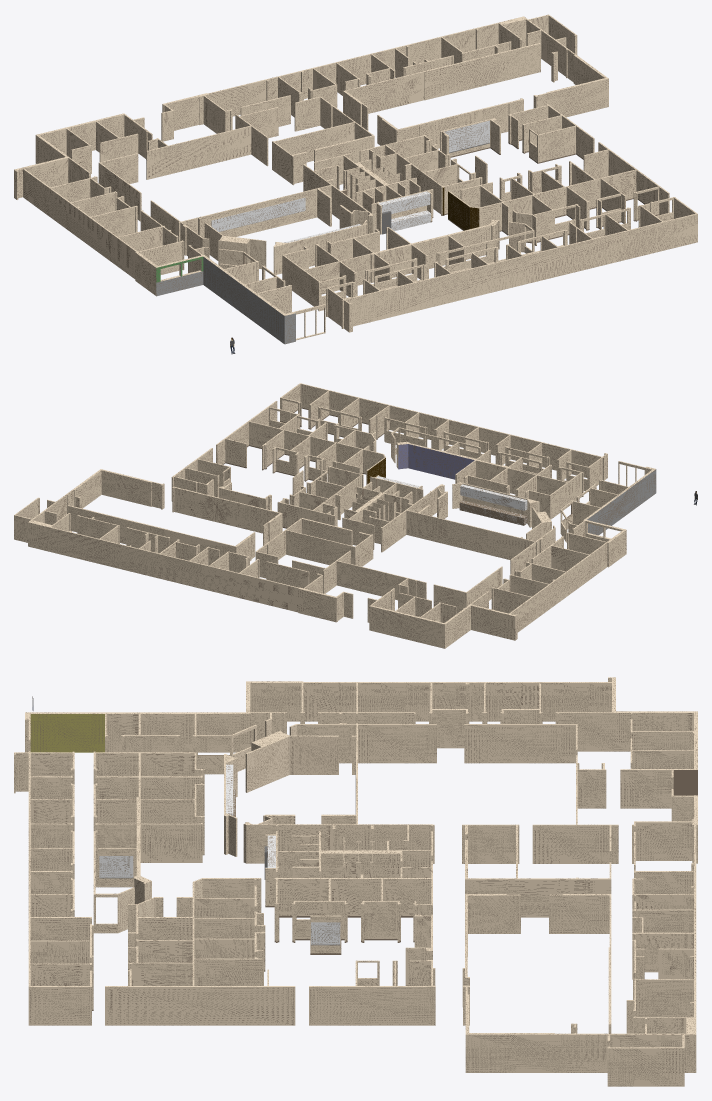
The model's file is willowgarage2.dae.
3 renders of one model, top to bottom at view 1: azimuth 30°, elevation 25°; view 2: azimuth 150°, elevation 25°; view 3: azimuth 270°, elevation 25°, orthographic. The views are drawn at different scales.
Parts seen in each view (by area): view 1: skpb603 (×24); view 2: skpb603 (×23); view 3: skpb603 (×22).
Boxes of the visible parts, x1,y1,x2,y2 form: skpb603 (×24): (14, 14, 697, 344); skpb603 (×23): (14, 383, 656, 648); skpb603 (×22): (14, 677, 697, 1086).
Size of the model in its own units: 2308 by 1798 by 112.
20 materials, 3 textured.
